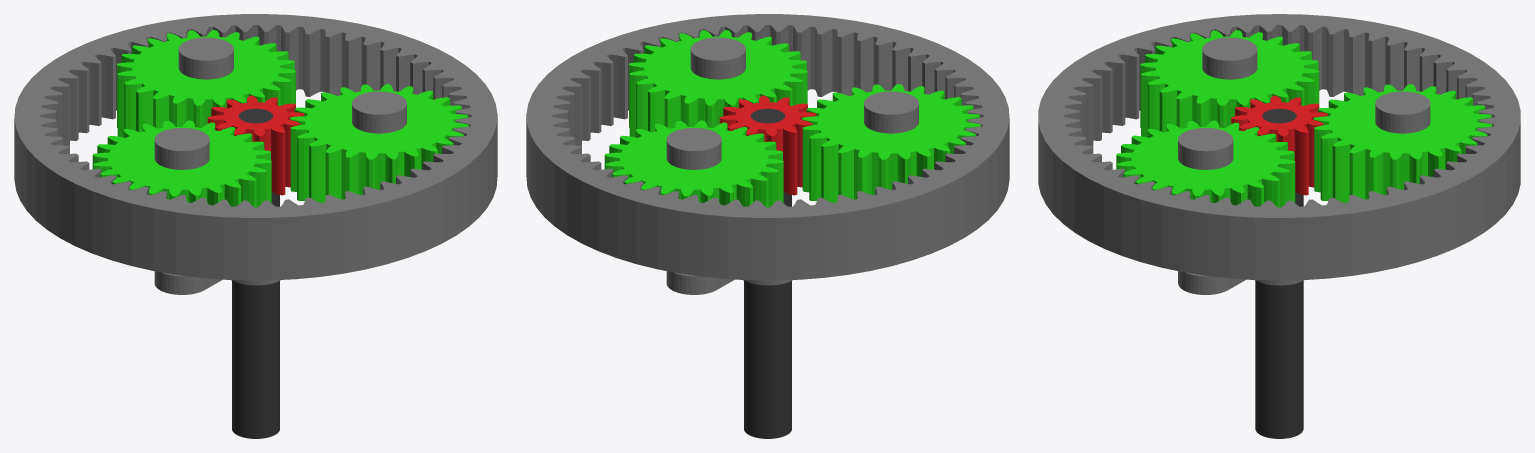
File: asset.glb
3 renders of one model, left to right at view 1: azimuth 30°, elevation 25°; view 2: azimuth 150°, elevation 25°; view 3: azimuth 270°, elevation 25°, orthographic.
Visible parts, largest first — view 1: Assembly - Internal Spur Gear Iso-1, Assembly - Spur Gear Iso-4, Assembly - Spur Gear Iso-3, Assembly - Spur Gear Iso-2, Assembly - Input Shaft-1, Assembly - Plantary Gear Carrier-1, Assembly - Spur Gear Iso-1; view 2: Assembly - Internal Spur Gear Iso-1, Assembly - Spur Gear Iso-2, Assembly - Spur Gear Iso-4, Assembly - Spur Gear Iso-3, Assembly - Input Shaft-1, Assembly - Plantary Gear Carrier-1, Assembly - Spur Gear Iso-1; view 3: Assembly - Internal Spur Gear Iso-1, Assembly - Spur Gear Iso-3, Assembly - Spur Gear Iso-2, Assembly - Spur Gear Iso-4, Assembly - Input Shaft-1, Assembly - Plantary Gear Carrier-1, Assembly - Spur Gear Iso-1.
Boxes of the visible parts, left/top/right/bottom form: Assembly - Internal Spur Gear Iso-1: left=14, top=14, right=497, bottom=280; Assembly - Spur Gear Iso-4: left=290, top=84, right=468, bottom=202; Assembly - Spur Gear Iso-3: left=117, top=30, right=295, bottom=137; Assembly - Spur Gear Iso-2: left=92, top=120, right=271, bottom=207; Assembly - Input Shaft-1: left=232, top=108, right=279, bottom=438; Assembly - Plantary Gear Carrier-1: left=154, top=37, right=406, bottom=294; Assembly - Spur Gear Iso-1: left=207, top=95, right=304, bottom=195; Assembly - Internal Spur Gear Iso-1: left=526, top=14, right=1009, bottom=280; Assembly - Spur Gear Iso-2: left=802, top=84, right=980, bottom=202; Assembly - Spur Gear Iso-4: left=629, top=30, right=807, bottom=137; Assembly - Spur Gear Iso-3: left=604, top=120, right=783, bottom=207; Assembly - Input Shaft-1: left=744, top=108, right=791, bottom=438; Assembly - Plantary Gear Carrier-1: left=666, top=37, right=918, bottom=294; Assembly - Spur Gear Iso-1: left=719, top=95, right=816, bottom=195; Assembly - Internal Spur Gear Iso-1: left=1038, top=14, right=1520, bottom=280; Assembly - Spur Gear Iso-3: left=1313, top=84, right=1492, bottom=202; Assembly - Spur Gear Iso-2: left=1140, top=30, right=1319, bottom=137; Assembly - Spur Gear Iso-4: left=1116, top=120, right=1295, bottom=207; Assembly - Input Shaft-1: left=1255, top=108, right=1303, bottom=438; Assembly - Plantary Gear Carrier-1: left=1178, top=37, right=1430, bottom=294; Assembly - Spur Gear Iso-1: left=1231, top=95, right=1327, bottom=195.
Size of the model in its own units: 70 by 53 by 69.91.
